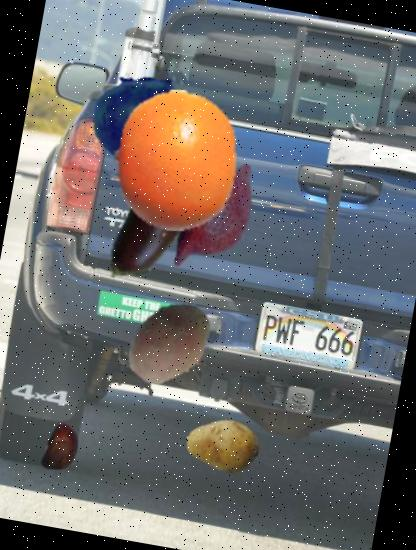Chestnut: (31, 419, 92, 480)
Eggplant: (70, 137, 238, 306)
Grapefruit: (92, 78, 257, 243)
Huckleberry: (82, 57, 207, 182)
Potato: (114, 290, 226, 401), (180, 401, 266, 487)
Salak: (141, 145, 287, 291)
